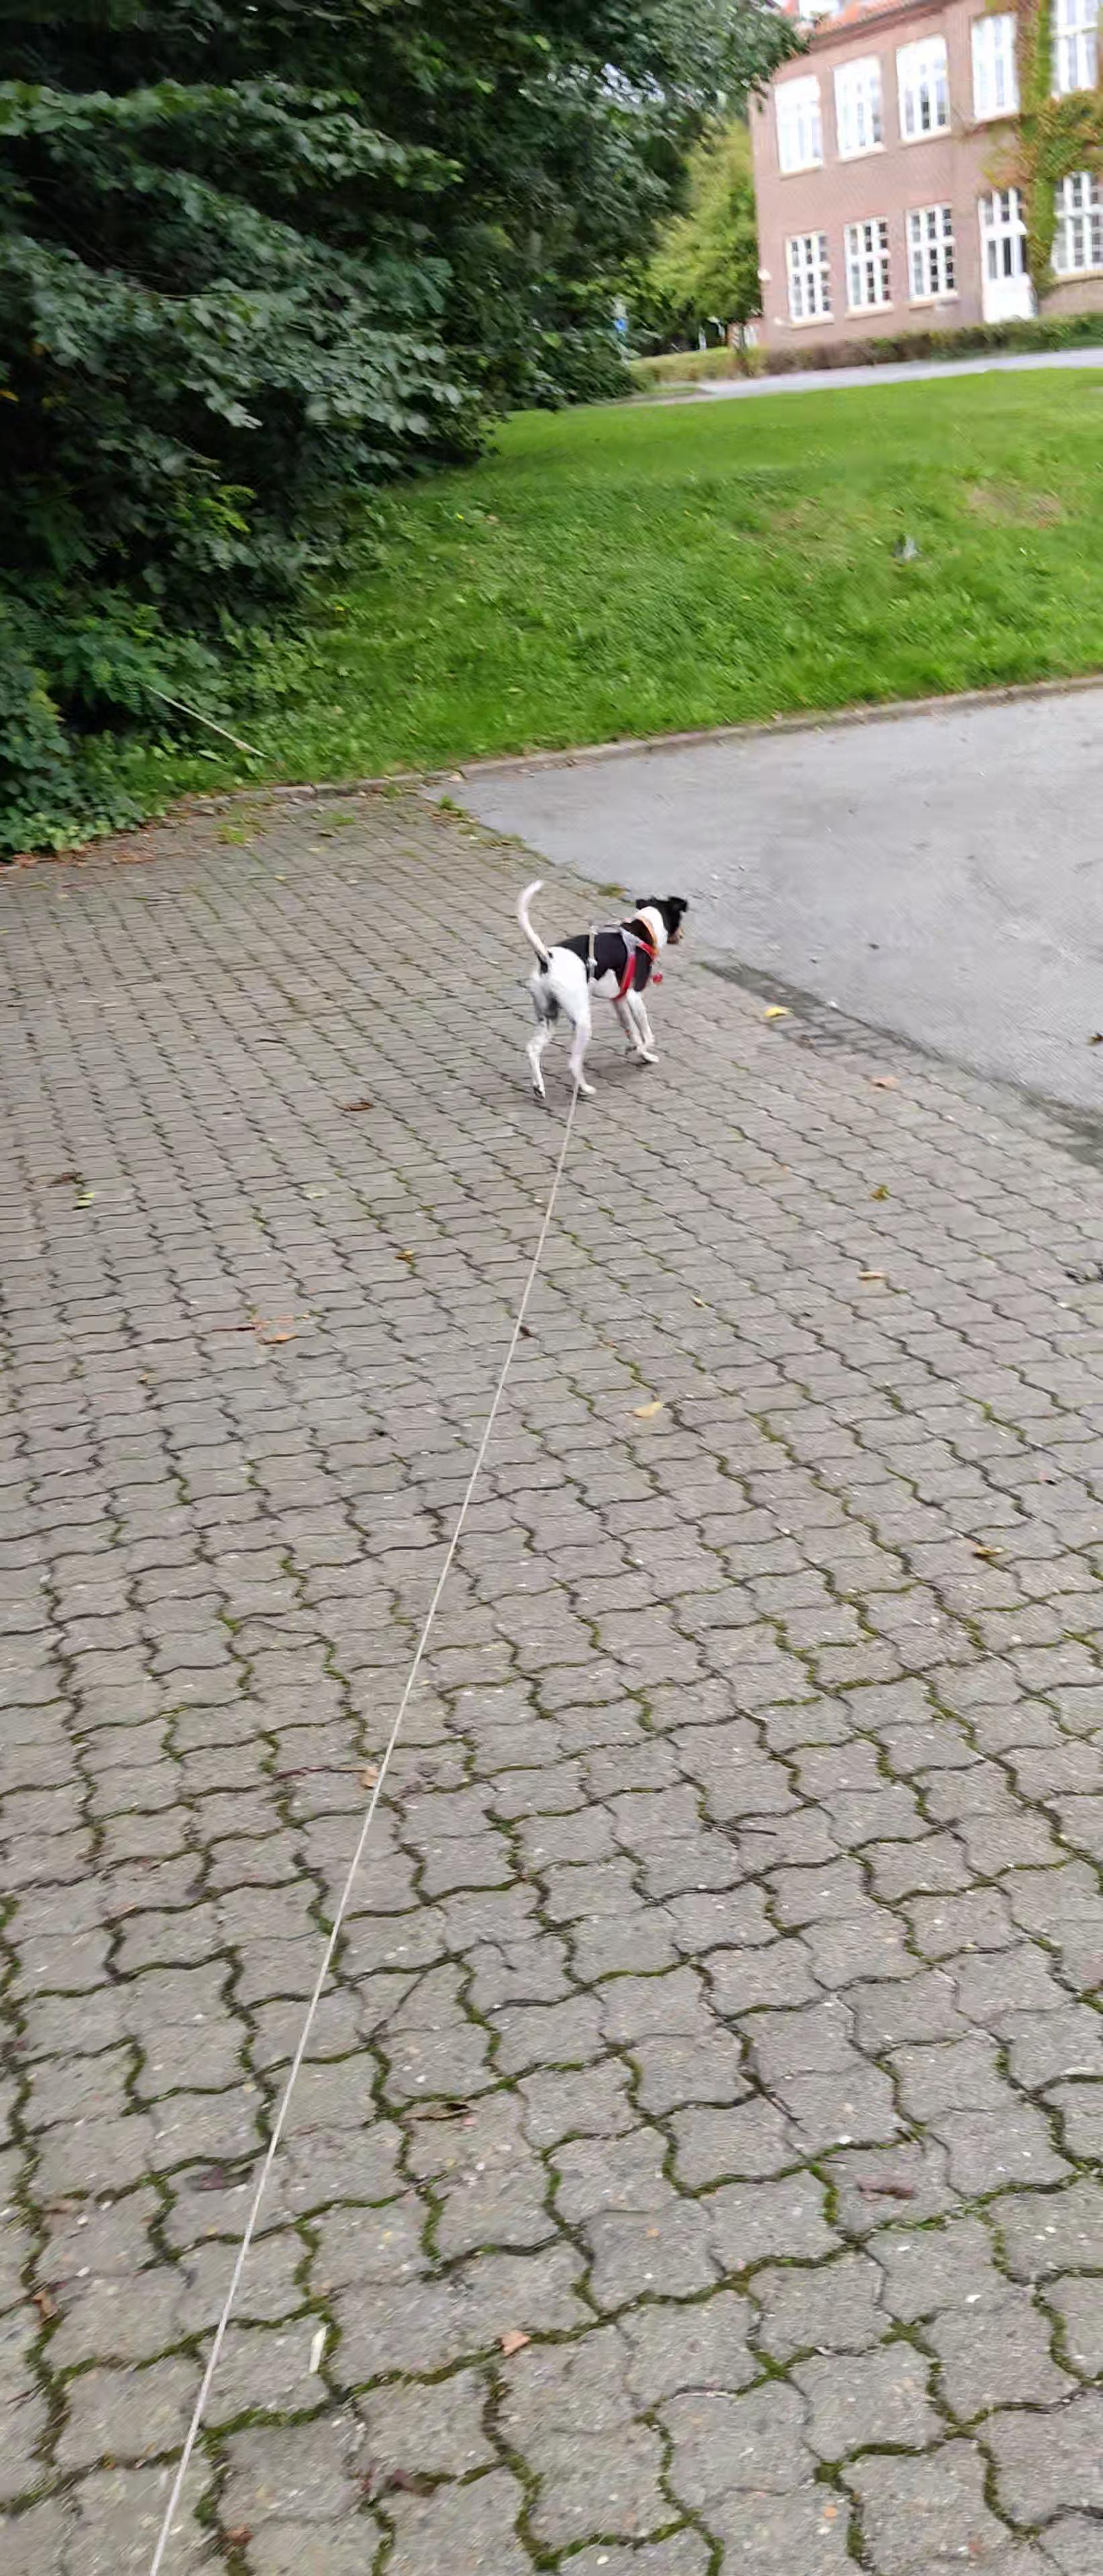Dog: (511, 877, 694, 1101)
